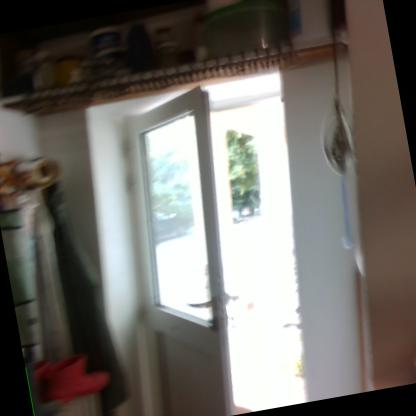semi: (86, 67, 357, 415)
